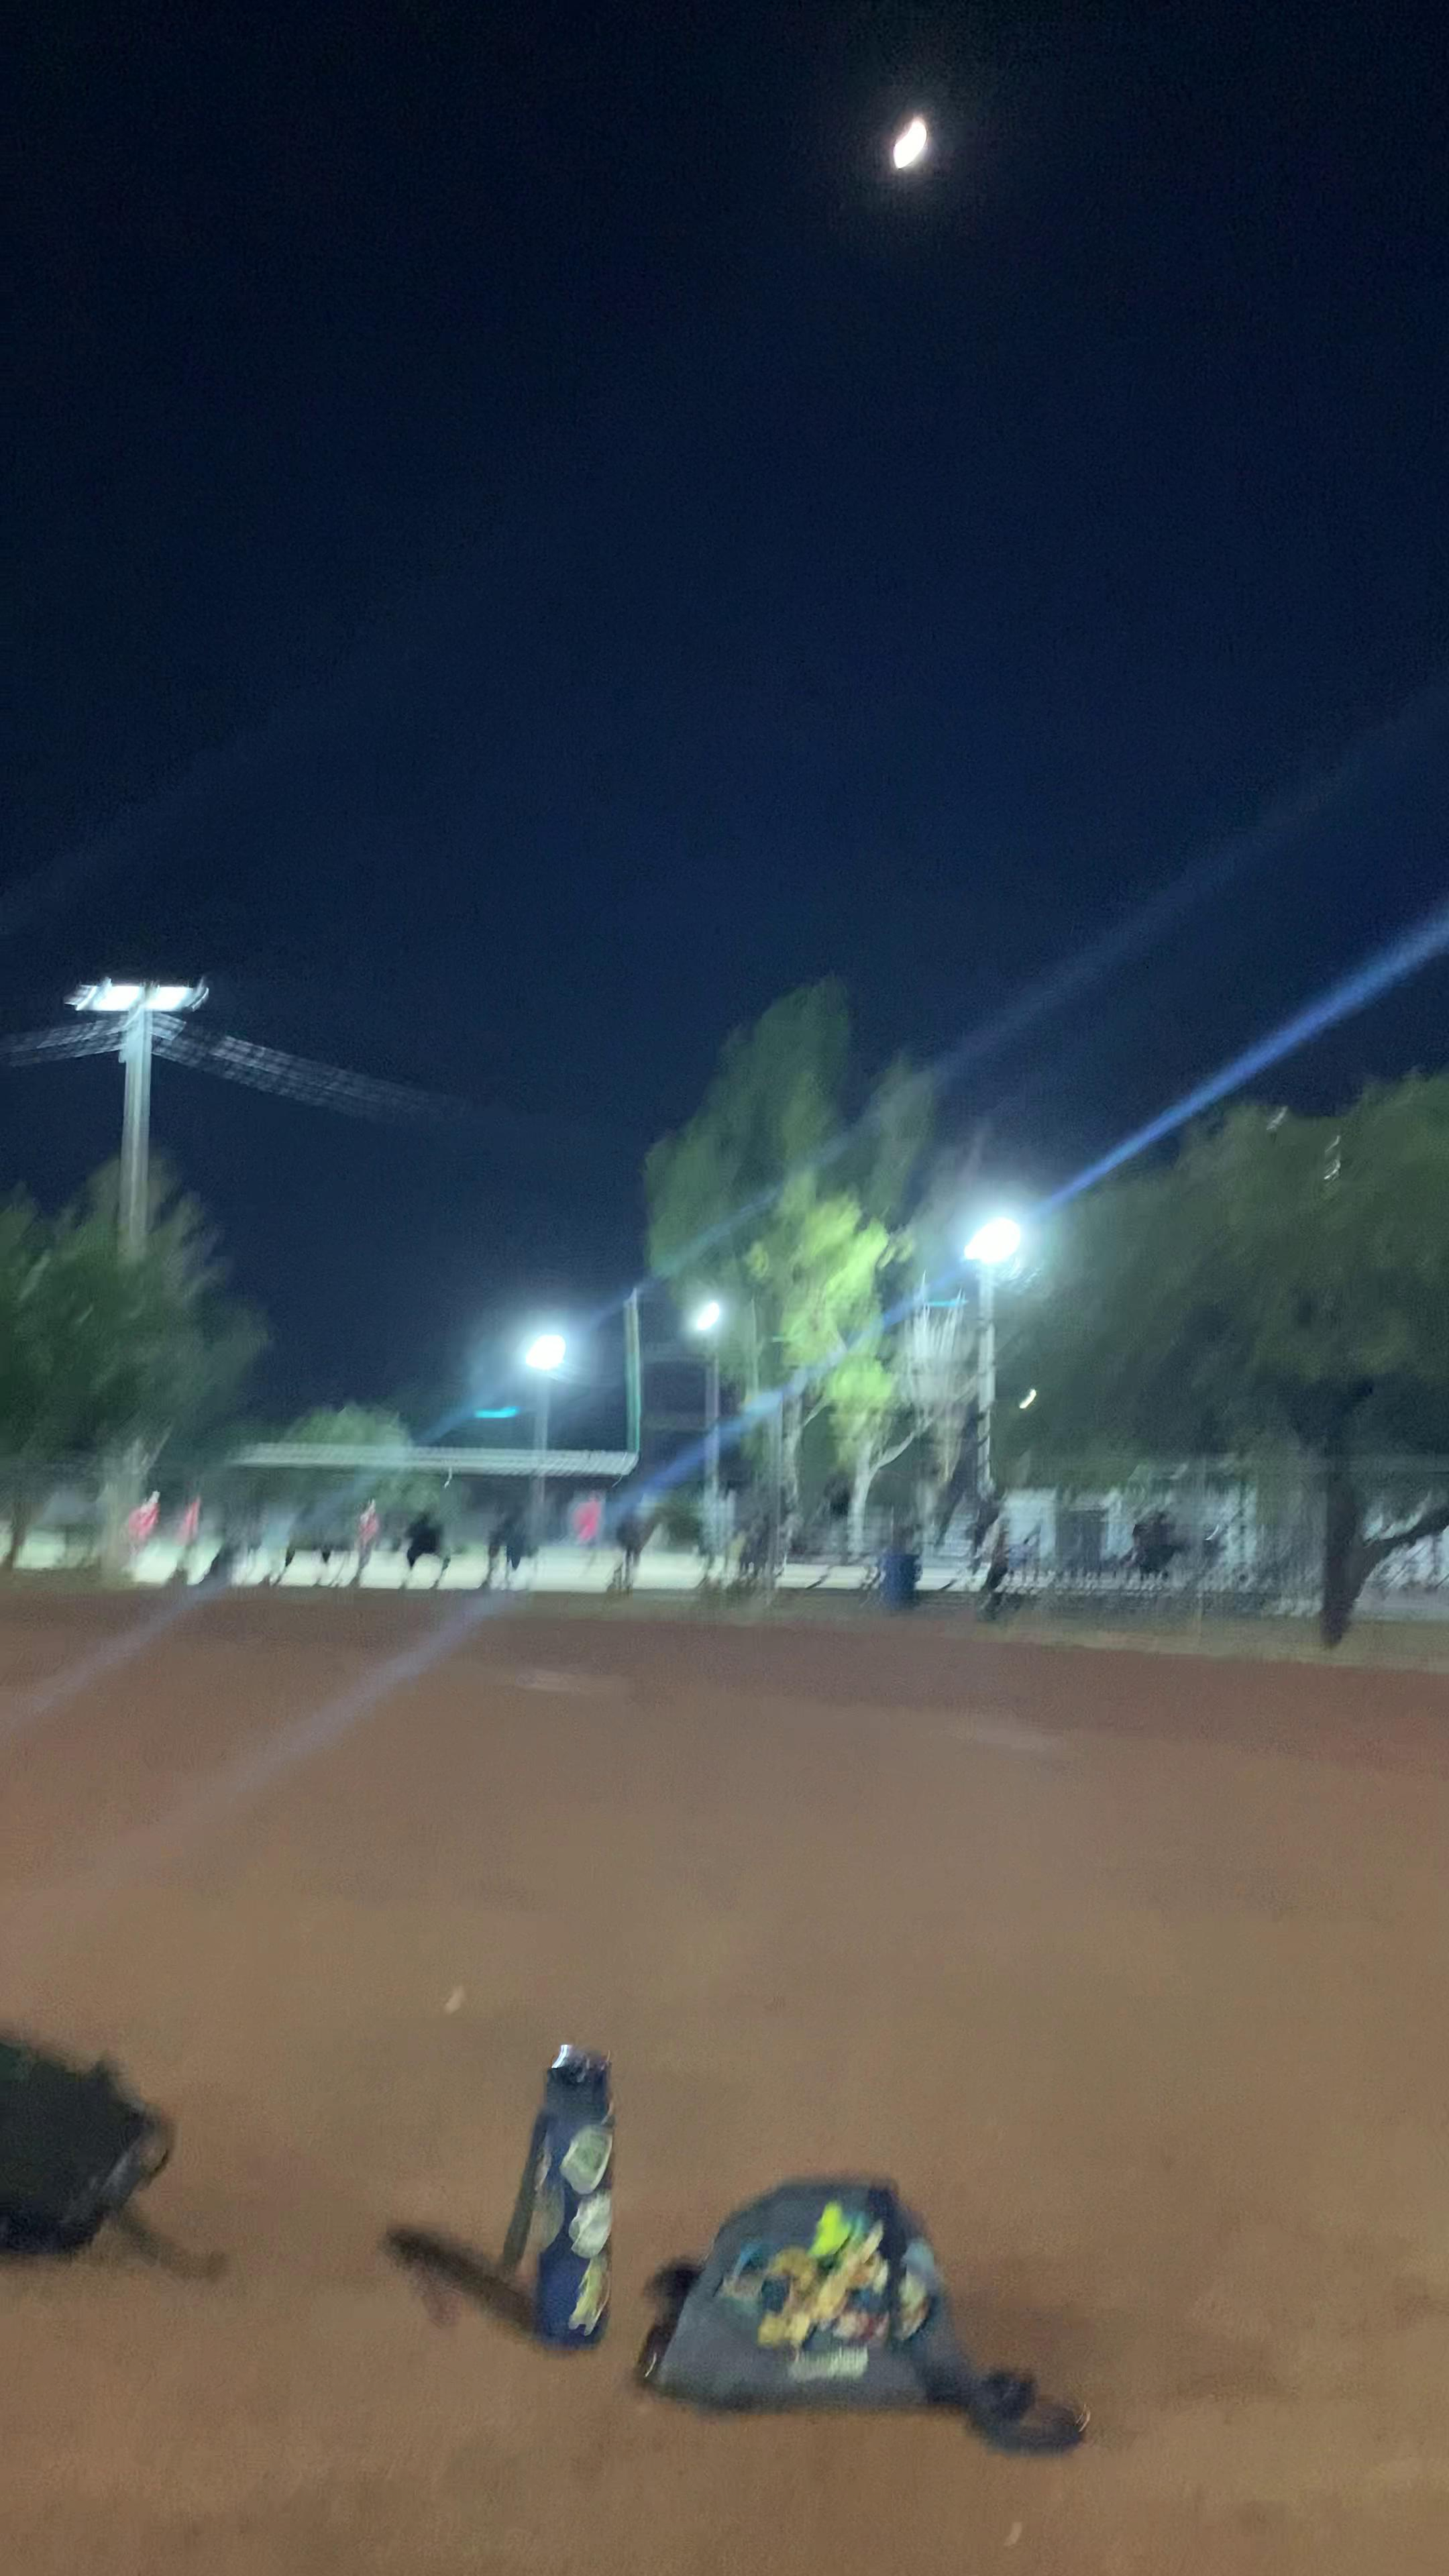moon: (863, 94, 964, 212)
